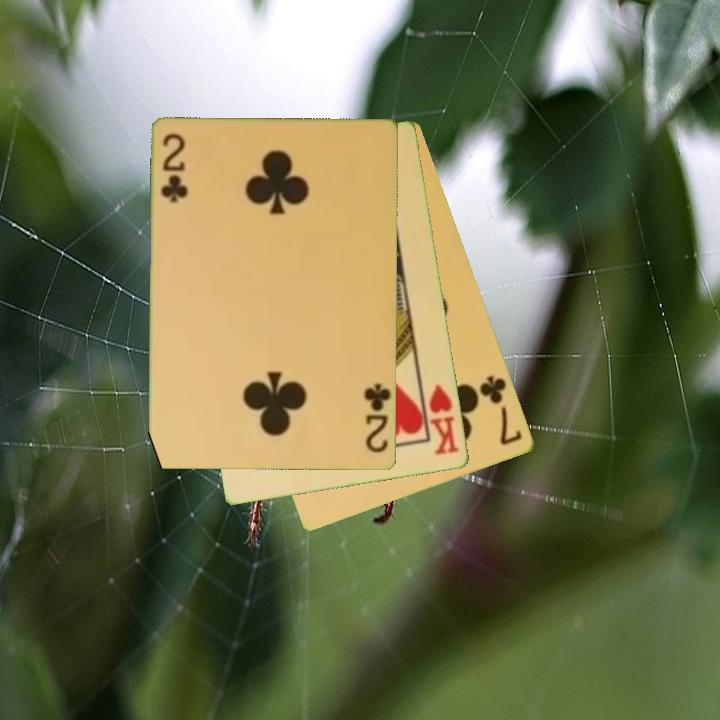2c: (361, 380, 393, 456), (158, 131, 189, 206)
7c: (476, 371, 526, 449)
Kh: (418, 379, 463, 458)
